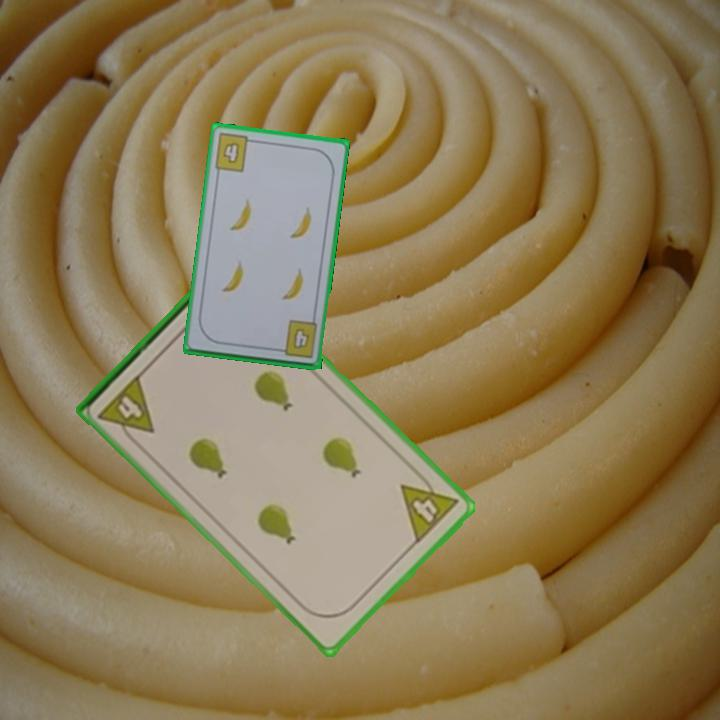4b: (211, 130, 258, 175), (273, 317, 320, 361)
4p: (397, 466, 462, 547), (94, 370, 158, 449)
